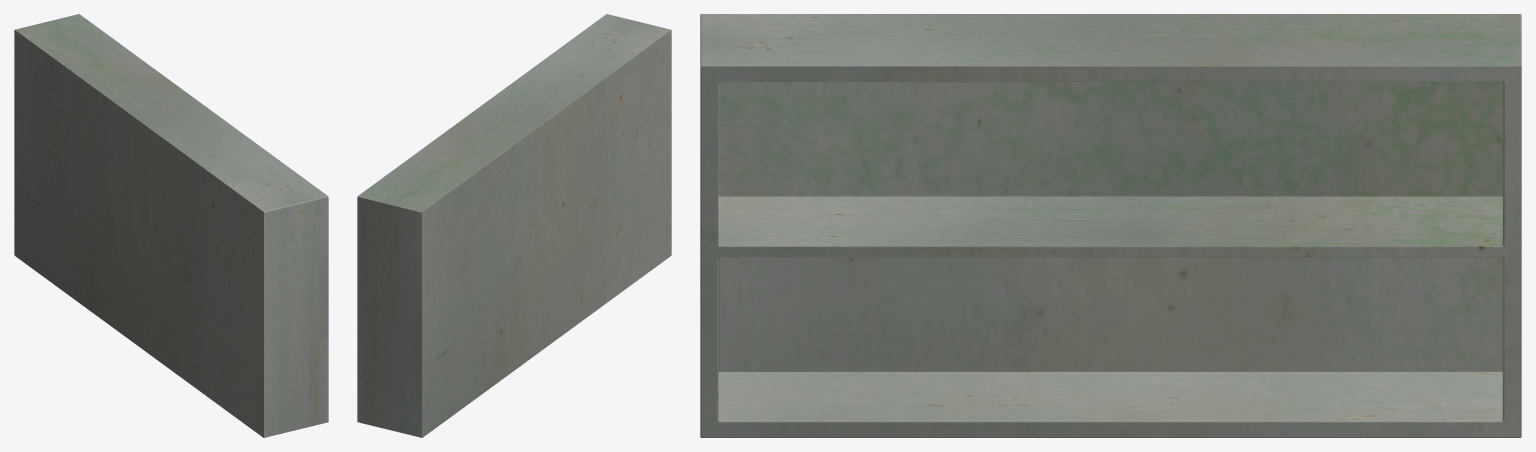
Rendered from shelf.glb.
The picture shows the model from 3 angles, left to right: view 1: azimuth 30°, elevation 25°; view 2: azimuth 150°, elevation 25°; view 3: azimuth 270°, elevation 25°; orthographic projection. The views are drawn at different scales.
Parts seen in each view (by area): view 1: Shelf; view 2: Shelf; view 3: Shelf.
Part boxes in pixels (<box>): Shelf: <box>14,14,328,437</box>; Shelf: <box>357,14,671,437</box>; Shelf: <box>700,14,1521,437</box>.
Bounding box in the file's own units: 3 × 10 × 20.
1 material, 1 textured.
